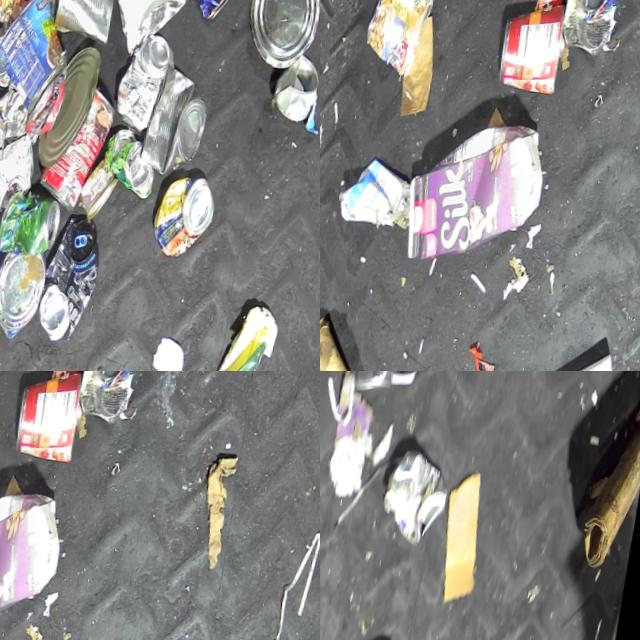can: (38, 83, 120, 212), (39, 215, 112, 343), (0, 0, 79, 115), (139, 61, 216, 176), (382, 444, 463, 552), (38, 42, 103, 168), (495, 0, 570, 96), (12, 371, 87, 464), (113, 31, 179, 132), (153, 172, 224, 258), (361, 0, 437, 78), (240, 0, 320, 70), (0, 250, 54, 340), (2, 189, 69, 258), (103, 126, 165, 198), (0, 130, 43, 221), (558, 0, 625, 57), (75, 371, 142, 425), (271, 48, 320, 118), (50, 0, 117, 44), (80, 156, 125, 219), (0, 0, 61, 23), (173, 0, 233, 22), (0, 24, 18, 88)
non_white_jug: (404, 112, 555, 269), (0, 480, 72, 636)
